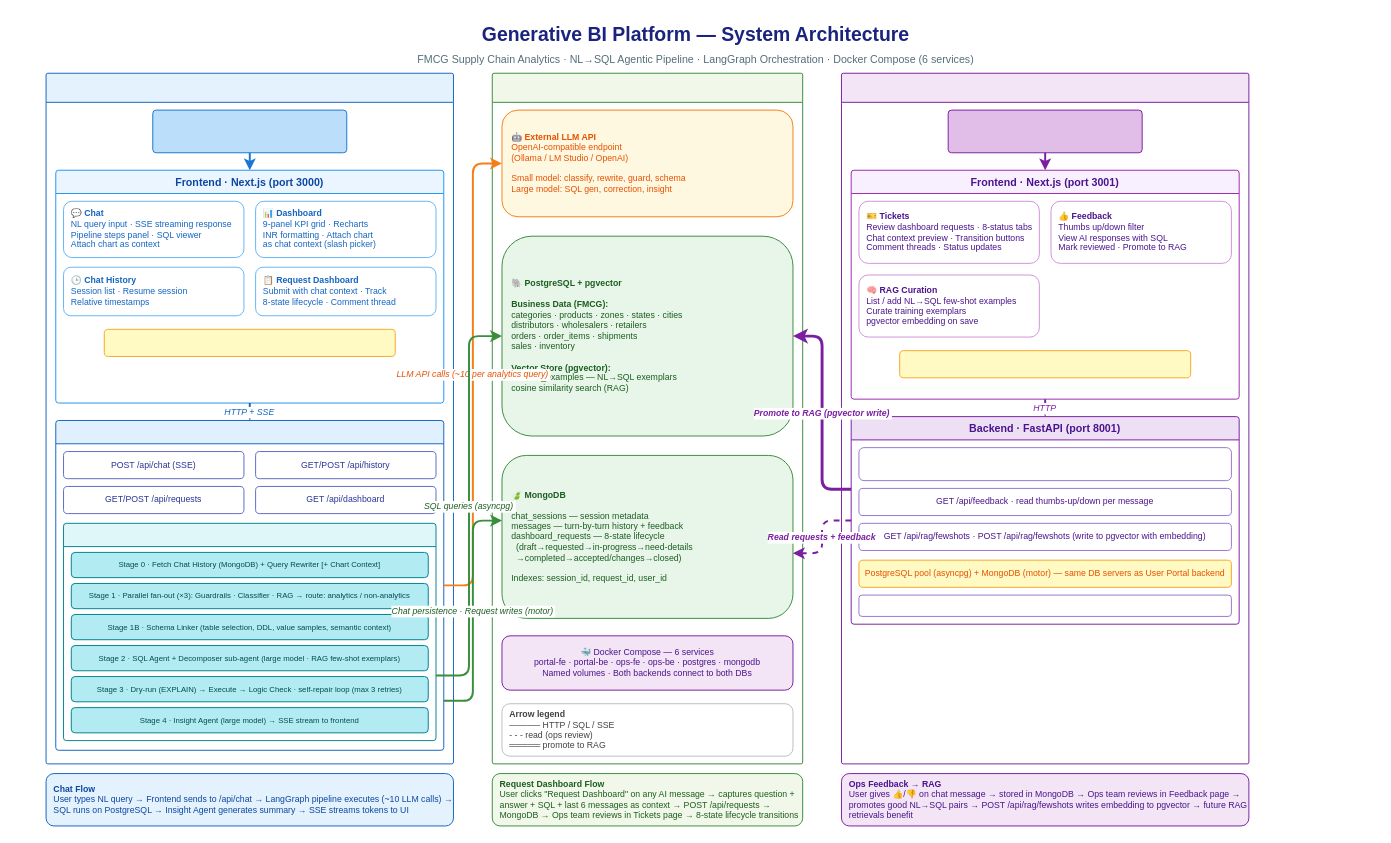
This 1391x843 diagram has some shape labels left out. Here are the shapes that lost their labels. From the top down, the box of each, then its label:
(152, 109, 347, 153): 👤 Business User
(947, 109, 1142, 153): 👥 BI Team / Analyst
(103, 328, 395, 356): 🔐 JWT Auth · Login page · Cookie-based session (auth_token)
(899, 350, 1191, 378): 🔐 JWT Auth · Login page · Cookie-based session (ops_auth_token)
(45, 72, 453, 764): USER PORTAL
(491, 72, 803, 764): DATA LAYER
(841, 72, 1249, 764): OPS PORTAL / OPERATIONS CENTER
(858, 447, 1231, 481): GET /api/tickets PATCH /api/tickets/:id · state machine transitions
(55, 420, 444, 750): Backend · FastAPI (port 8000)
(858, 594, 1231, 616): POST /auth/login · verify_token dependency on all routes · /health public
(63, 522, 436, 741): ⚡ LangGraph Agent Pipeline
